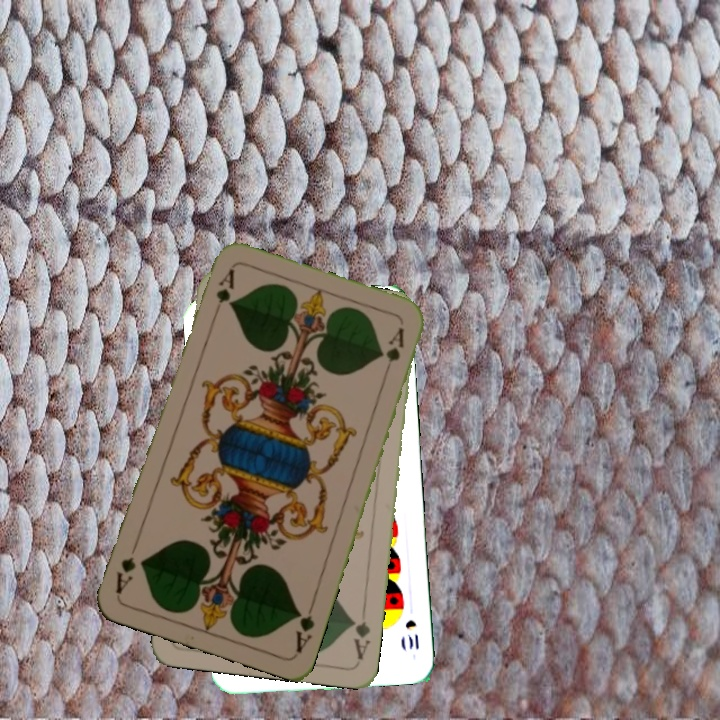GA: (208, 265, 237, 322), (291, 597, 318, 656), (347, 604, 373, 662)
S10: (401, 615, 421, 652)
